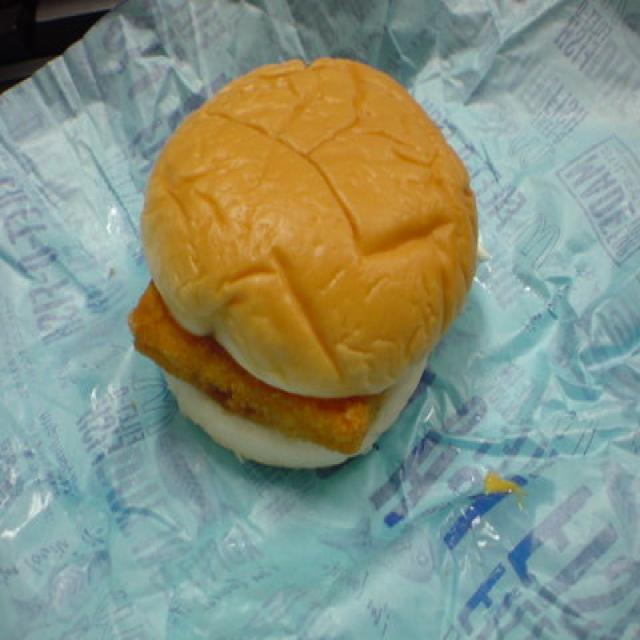Hamburger: (137, 49, 475, 482)
